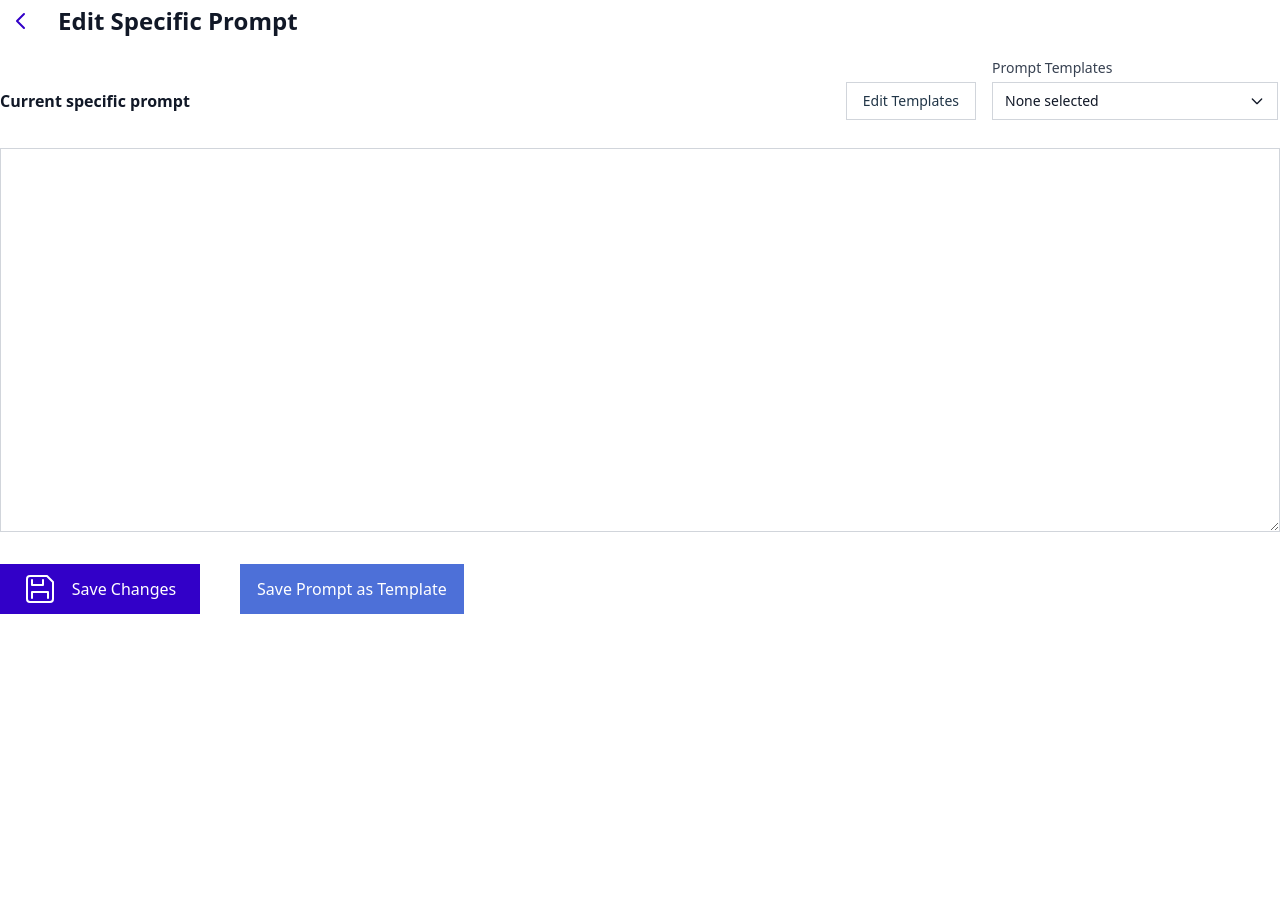
Test: EditSpecificPromptMenu - integration tests › opens Manage Templates modal and deletes a template
// Open Manage Templates modal
What coordinates should you click on to do the following:
click the button "Edit Templates"
I would click on:
 (911, 101)
Its box is [846, 82, 976, 120].
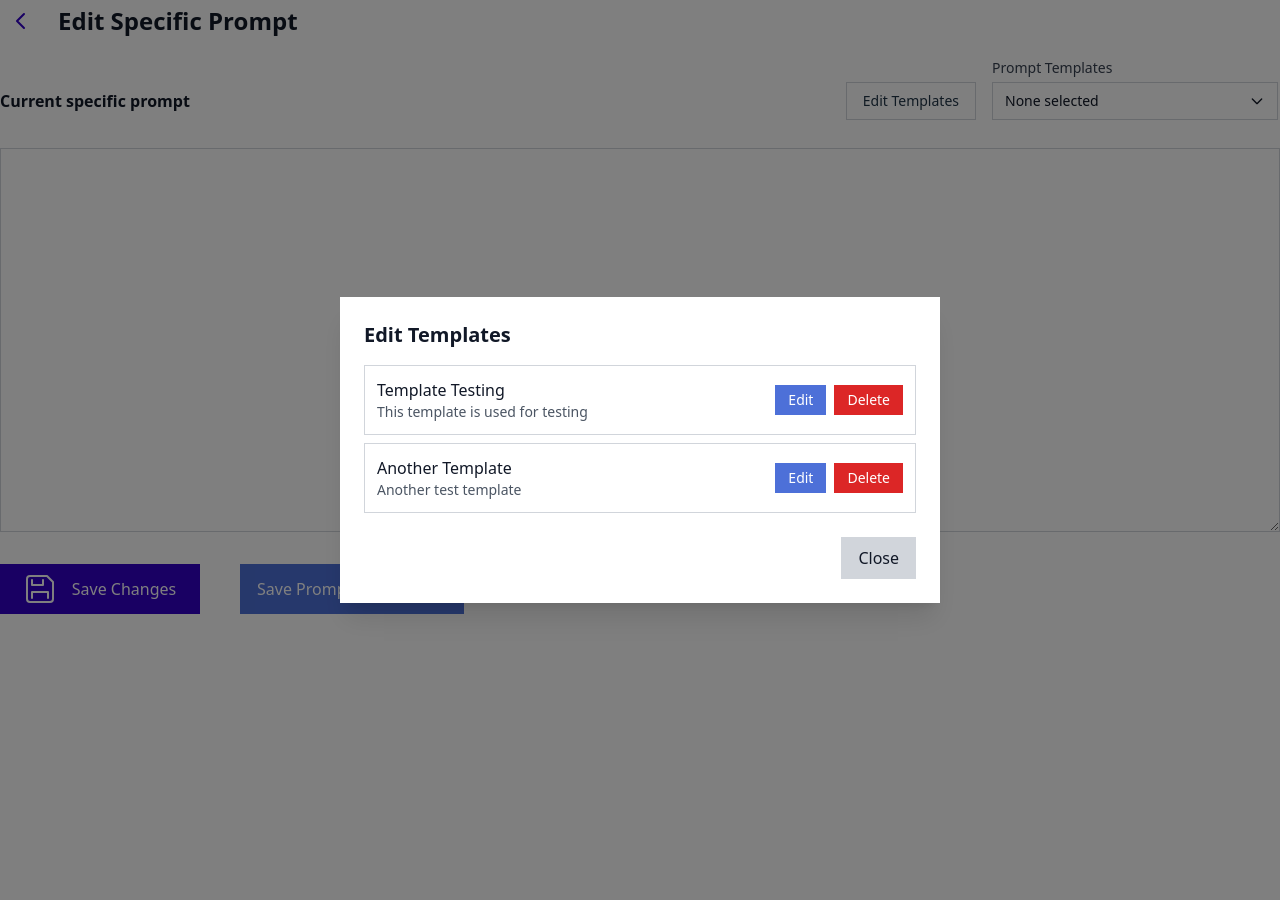
Expected: the text "Template Testing" is shown, [377, 379, 505, 401]
// Delete the first template
What coordinates should you click on to do the following:
click the button "Delete" in the row of "This template is used for testing"
I would click on:
 (869, 400)
Its box is [834, 385, 903, 415].
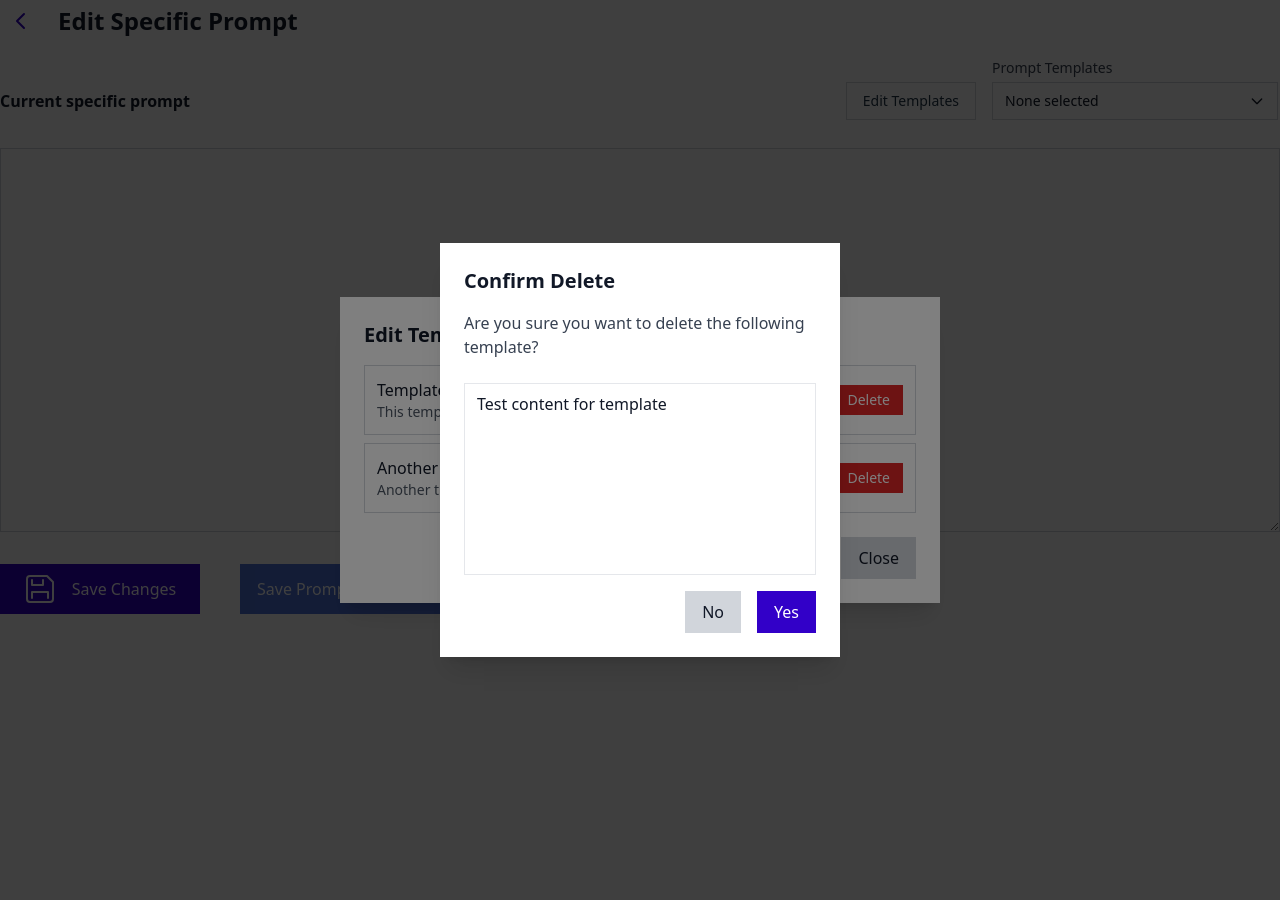
Expected: the button "Yes" is shown
What coordinates should you click on to do the following:
click the button "Yes"
I would click on:
 (786, 612)
Its box is [757, 591, 816, 633].
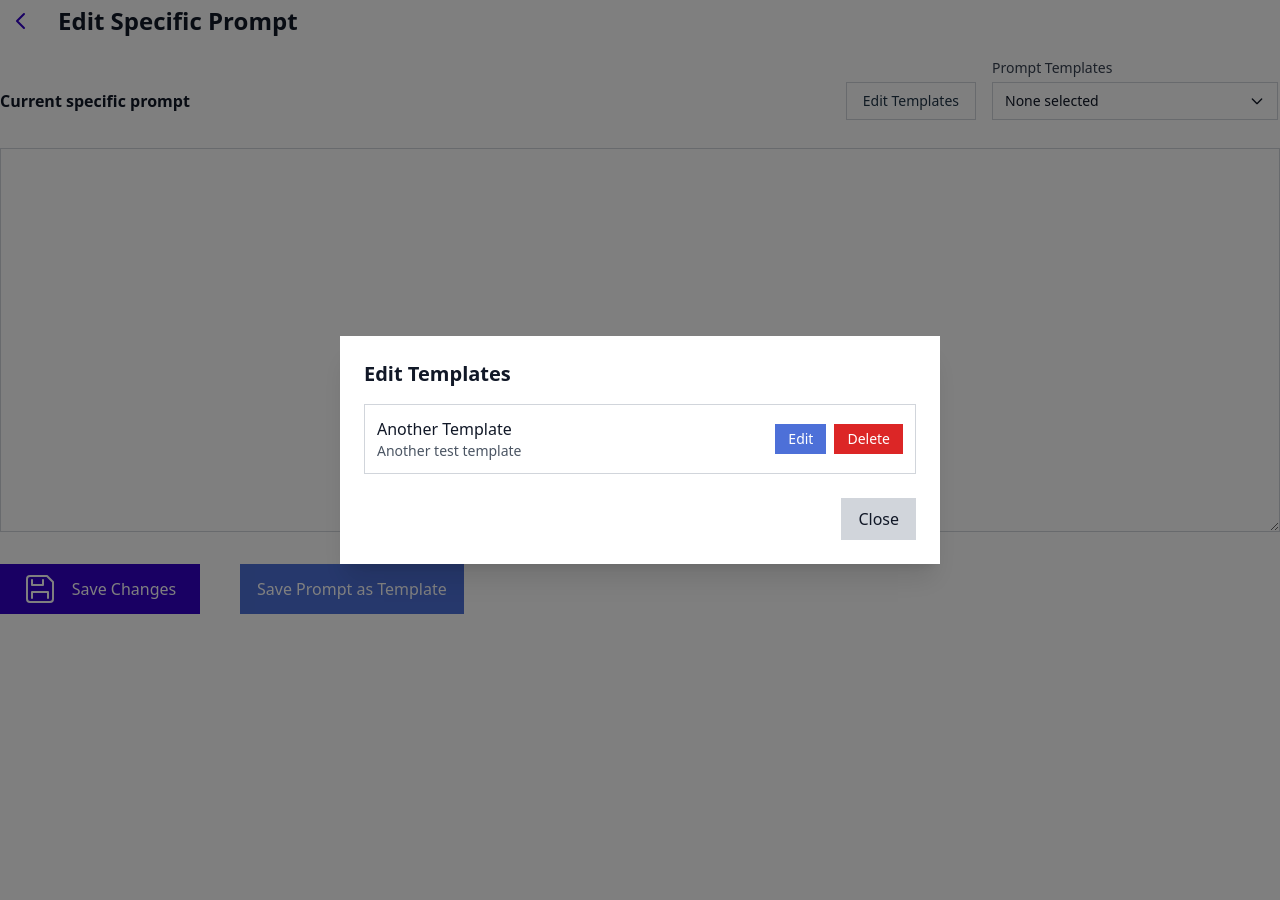
Expected: the text "Another Template" is shown, [377, 418, 512, 440]
Expected: the text "Template Testing" is gone
